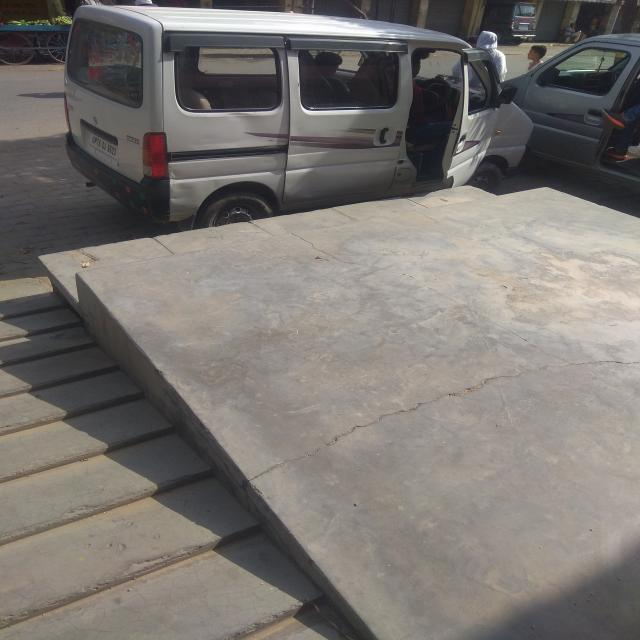Travller: (59, 2, 524, 204), (488, 24, 640, 186)
